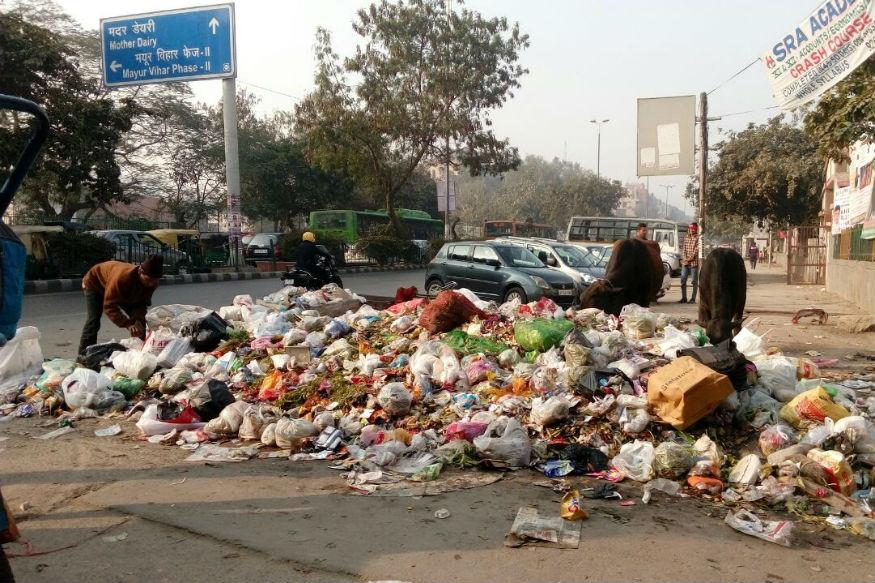garbage: (11, 291, 875, 520)
